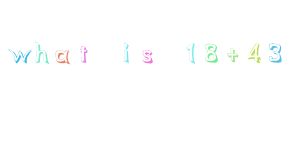+: (225, 43, 243, 68)
1: (180, 39, 201, 67)
3: (266, 38, 287, 66)
4: (246, 41, 265, 67)
8: (203, 39, 223, 68)
a: (53, 44, 75, 71)
h: (32, 39, 52, 70)
i: (116, 37, 136, 69)
s: (138, 44, 160, 68)
t: (75, 41, 94, 68)
w: (6, 44, 33, 68)
